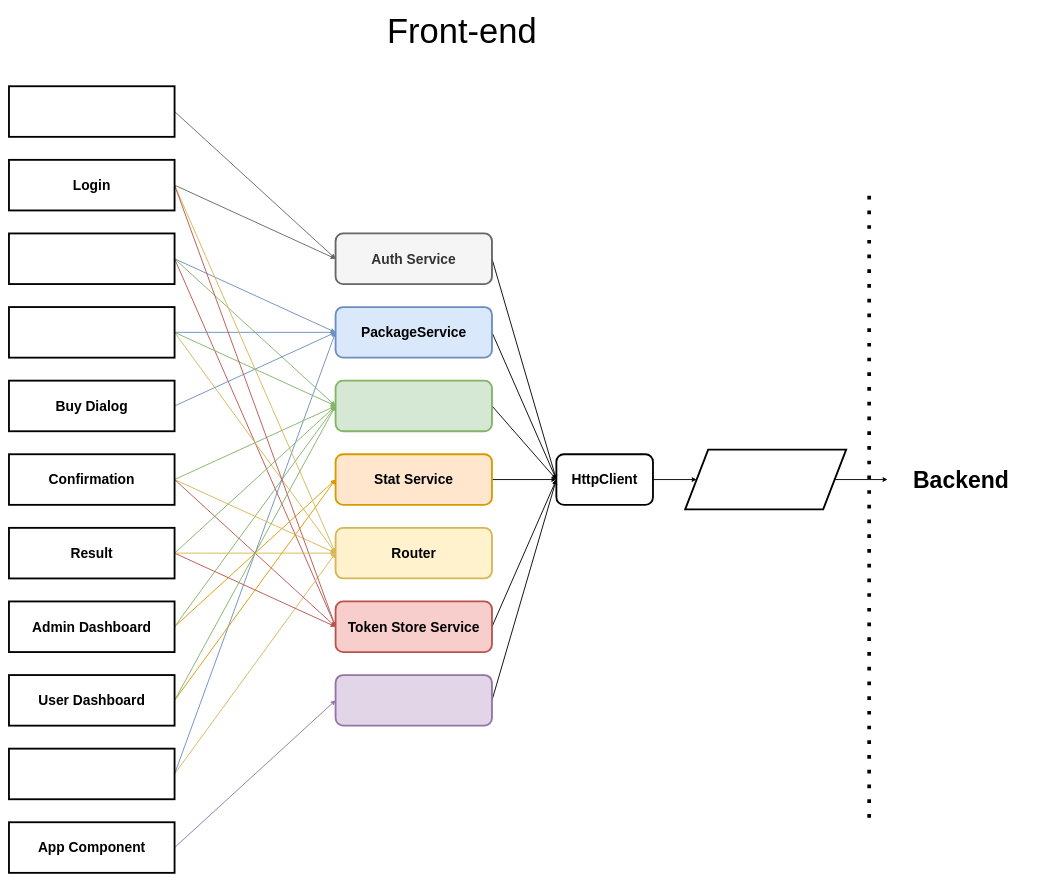
Image size: 1042x881. Some labels were removed from this diagram. The centre of each missing label's shape, as x and y in pixels:
Admin Settings: point 91,774
Auth Interceptor: point 765,479
Home: point 91,258
Order Service: point 413,406
Package Details: point 91,332
Registration: point 91,111
User Service: point 413,700
